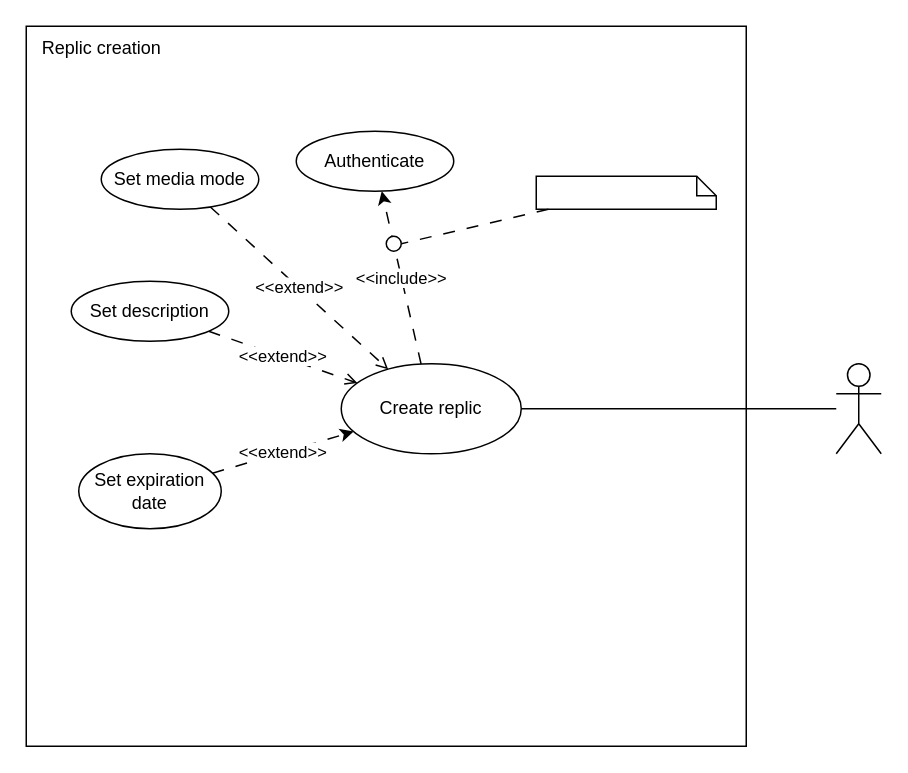
This 908x773 diagram has some shape labels left out. Here are the shapes that lost their labels. From the top down, the centre of each, then its label:
At (x=625, y=192): "Condition : {Auth required}".
At (x=858, y=408): "User".
